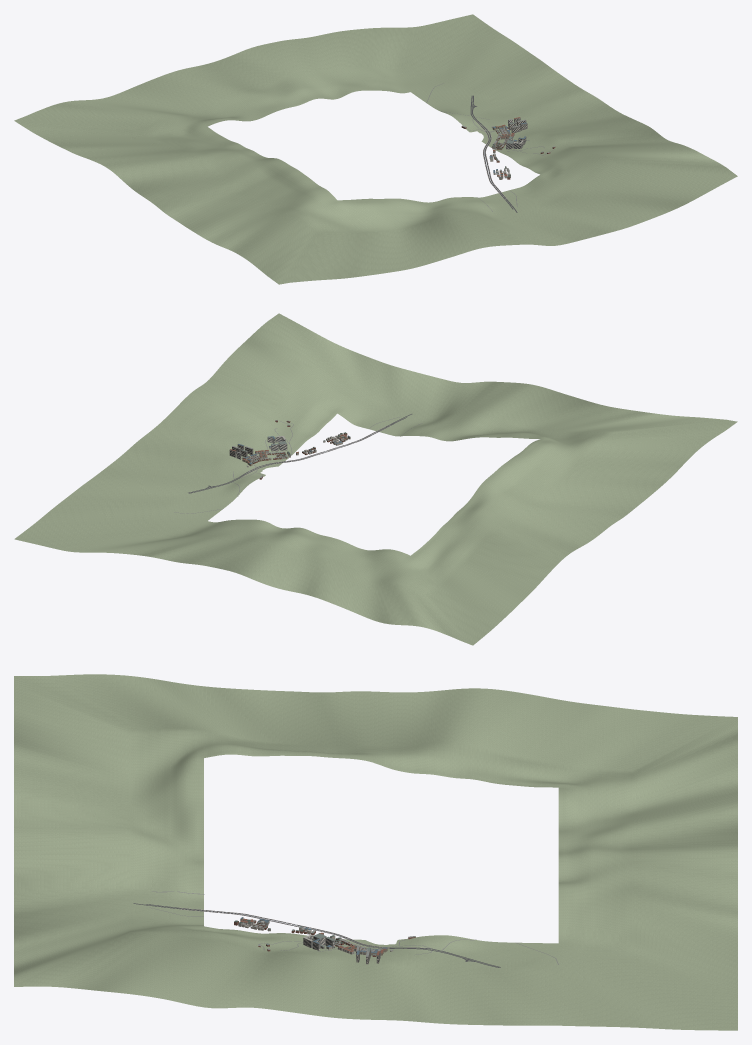
The picture shows the model from 3 angles, top to bottom: view 1: azimuth 30°, elevation 25°; view 2: azimuth 150°, elevation 25°; view 3: azimuth 270°, elevation 25°; orthographic projection. The views are drawn at different scales.
Parts seen in each view (by area): view 1: ctx-ground, ctx-buildings; view 2: ctx-ground, ctx-buildings, ctx-roads; view 3: ctx-ground, ctx-buildings, ctx-roads.
Boxes of the visible parts, x1,y1,x2,y2 form: ctx-ground: (14, 14, 737, 284); ctx-buildings: (461, 117, 555, 179); ctx-ground: (14, 313, 737, 645); ctx-buildings: (229, 420, 350, 479); ctx-roads: (188, 414, 412, 493); ctx-ground: (14, 674, 737, 1030); ctx-buildings: (234, 917, 415, 964); ctx-roads: (133, 903, 500, 967).
Bounding box in the file's own units: 3200 × 272 × 3200.
12 materials, 11 textured.
